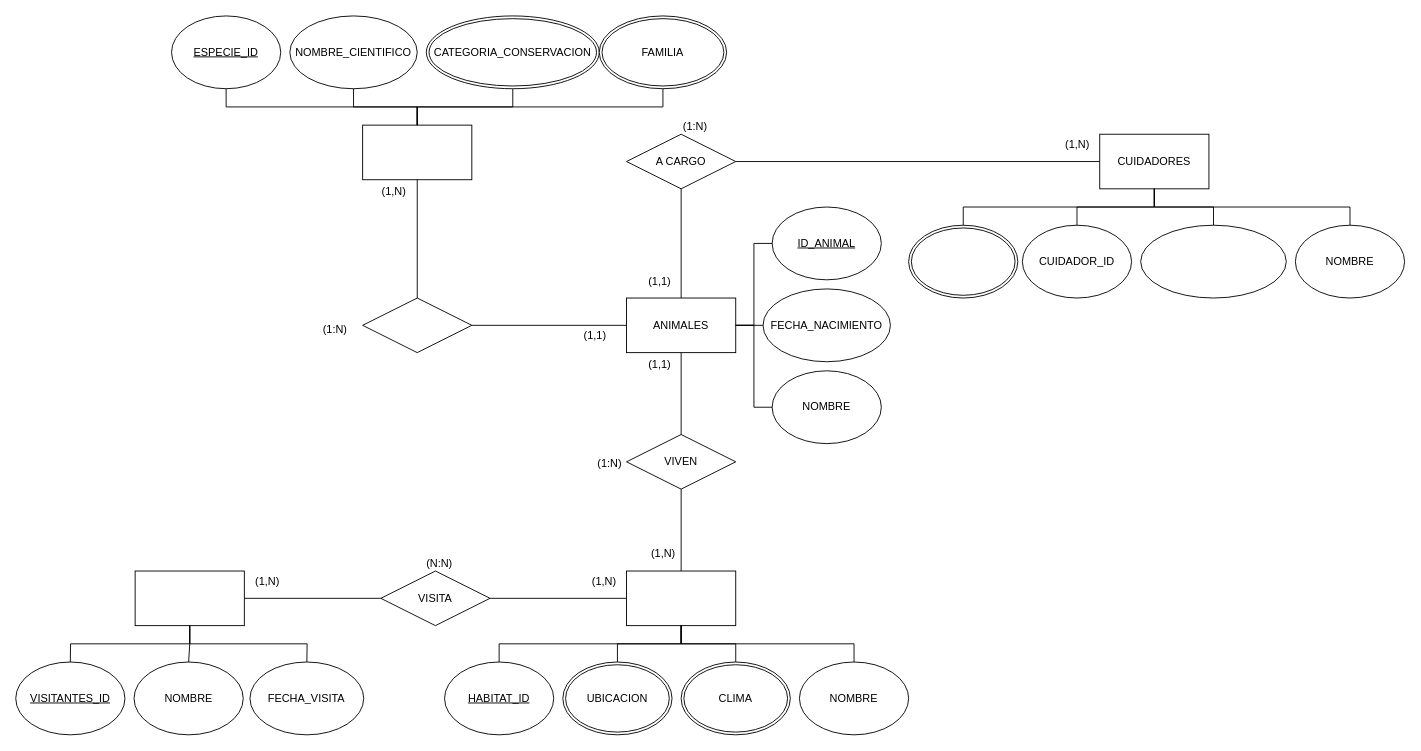
Image size: 1421x751. Some labels were removed from this diagram. The shapes that lost their labels are listed below. From the top down, each one's centre as x and y in pixels, then its label:
pixel 417 152: ESPECIE
pixel 963 261: ESPECIALIDAD
pixel 1213 261: FECHA_CONTRATACION
pixel 417 325: PERTENECE
pixel 189 598: VISITANTES
pixel 681 598: HABITATS
